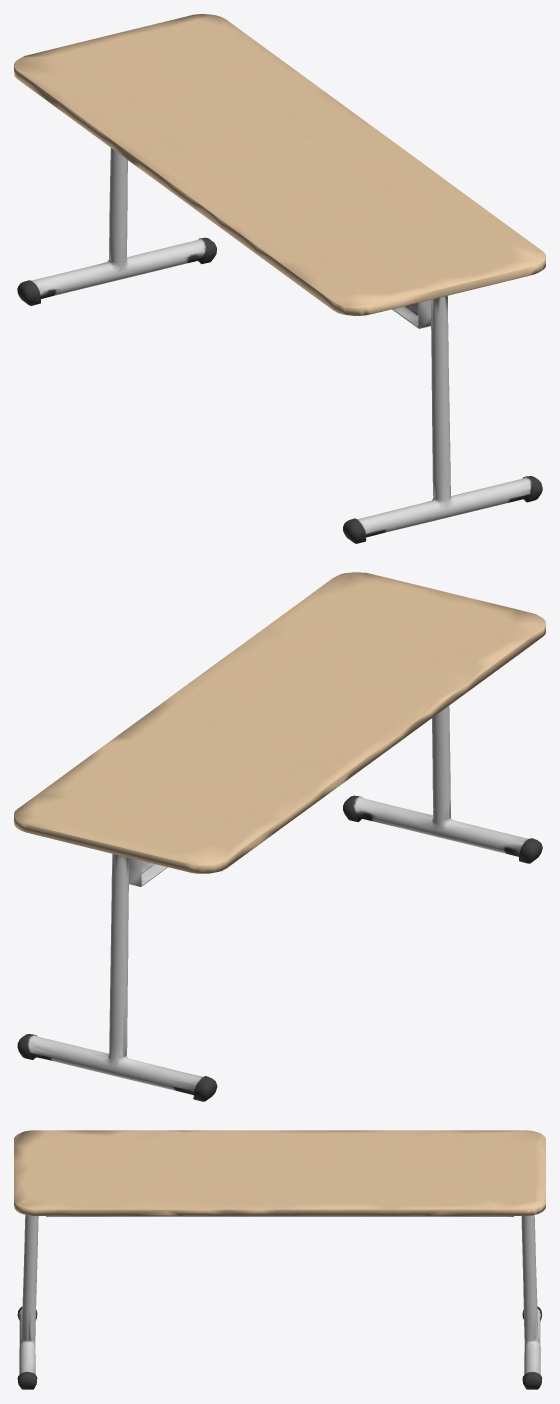
The model's file is desk.glb.
3 renders of one model, top to bottom at view 1: azimuth 30°, elevation 25°; view 2: azimuth 150°, elevation 25°; view 3: azimuth 270°, elevation 25°, orthographic. The views are drawn at different scales.
Parts seen in each view (by area): view 1: desk-object; view 2: desk-object; view 3: desk-object.
Part boxes in pixels (box(x1,y1,x2,y2)): desk-object: box(14, 14, 545, 543); desk-object: box(14, 572, 545, 1101); desk-object: box(14, 1130, 545, 1389).
Bounding box in the file's own units: 0.3528 × 0.386 × 1.
Materials: 1 (1 with a texture image).
